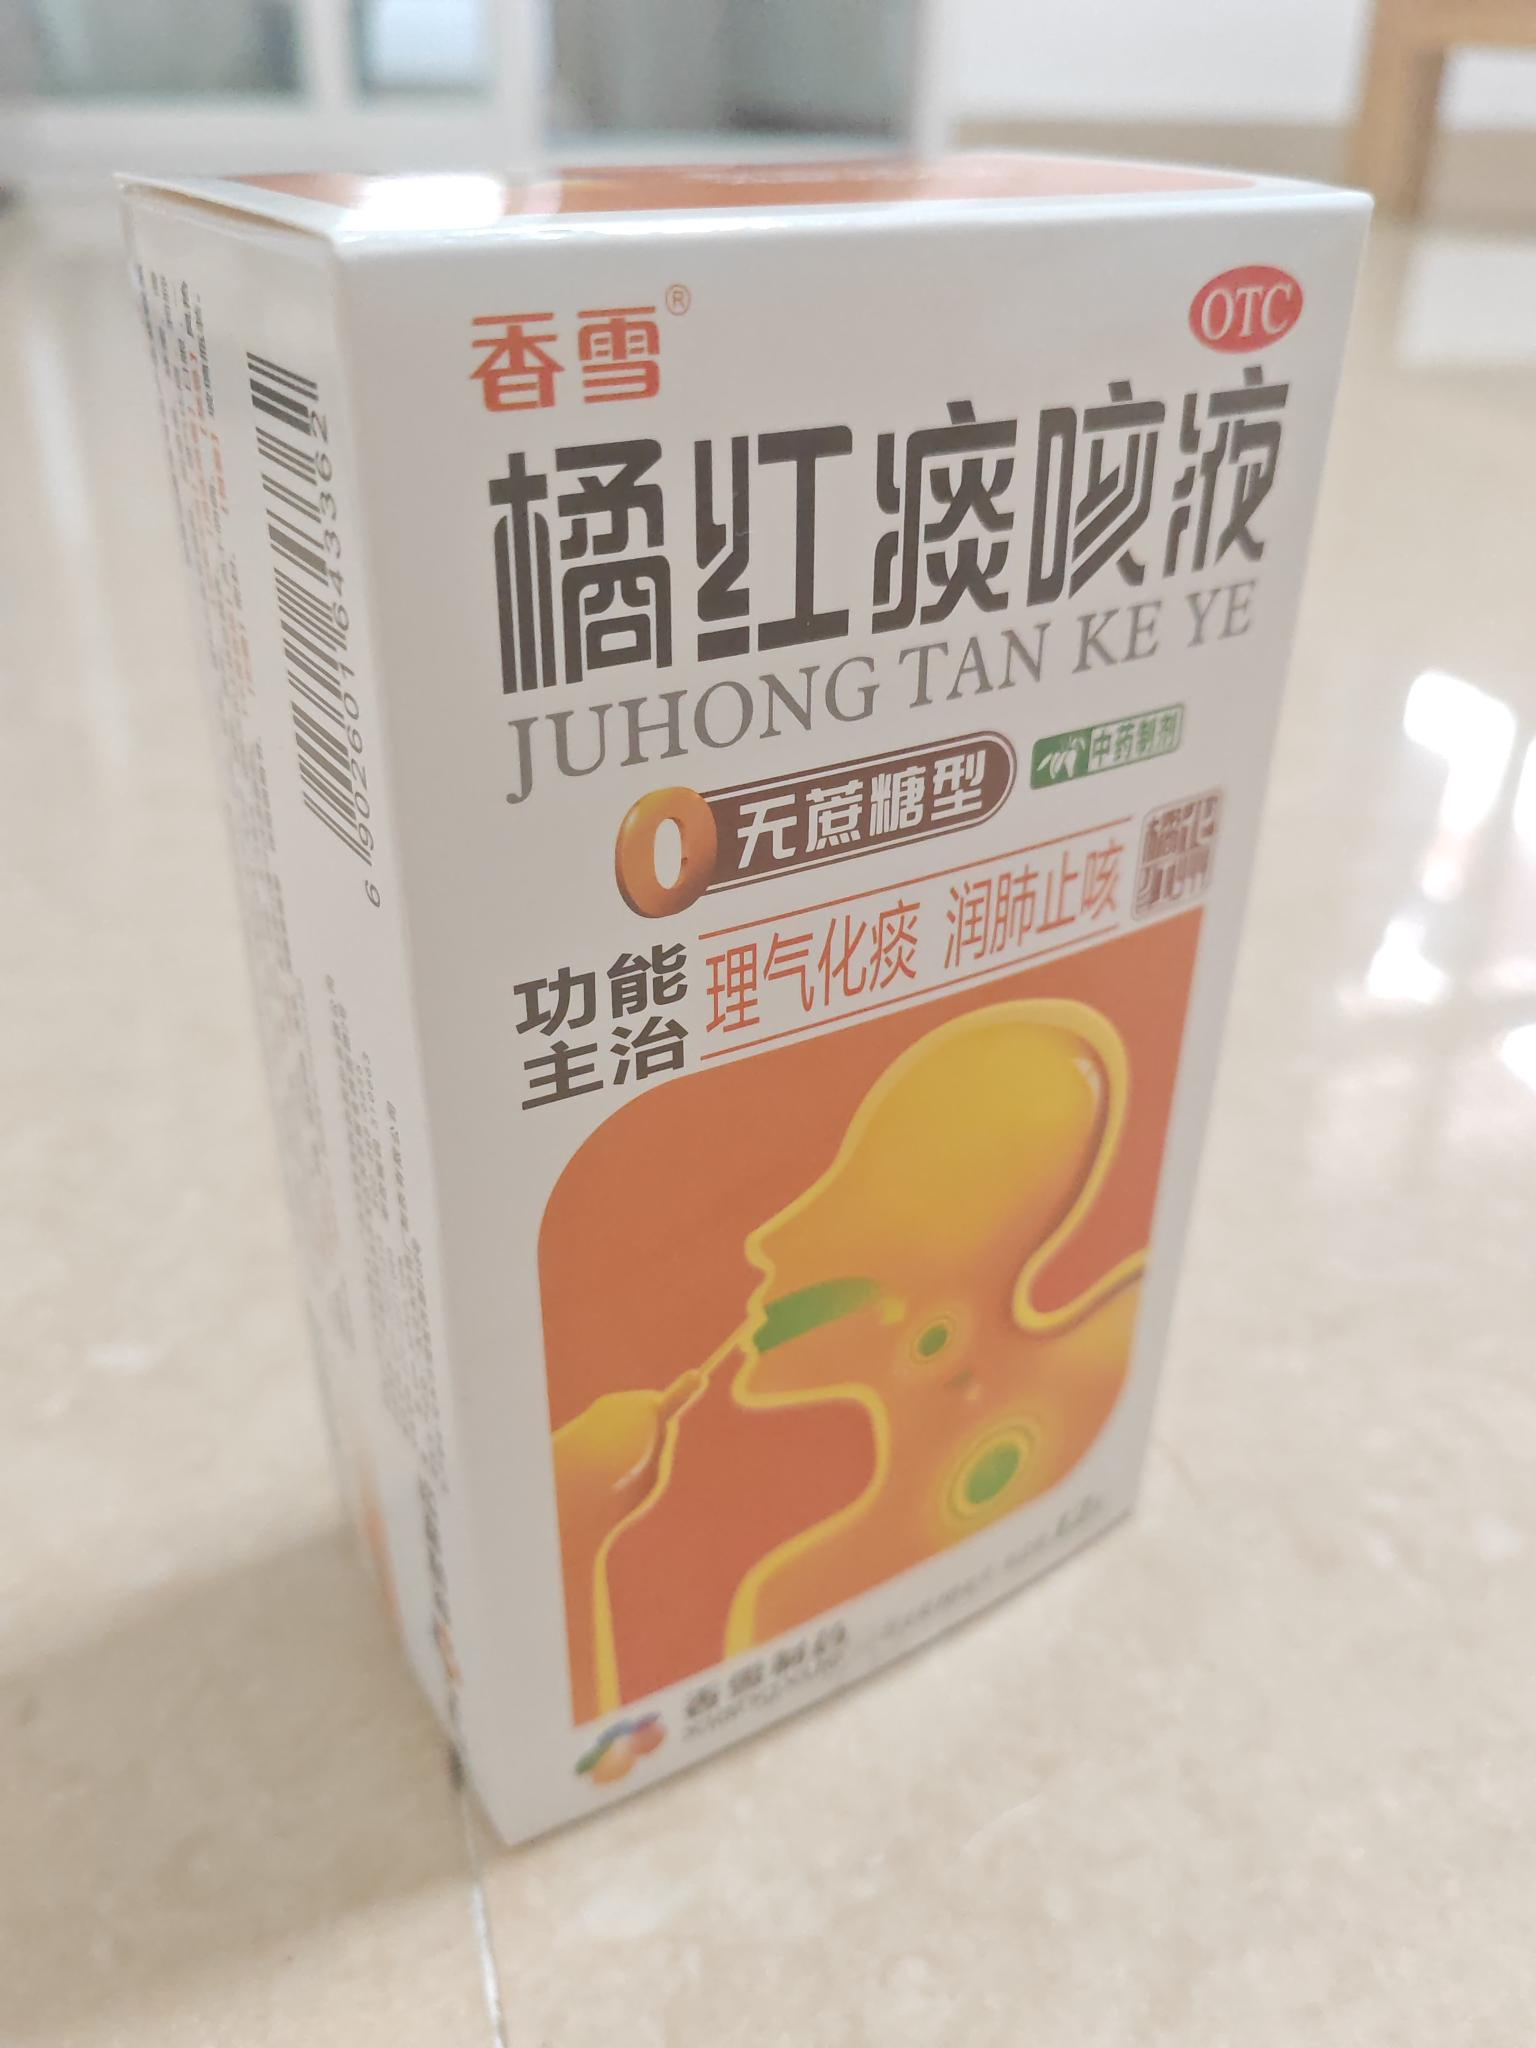Medicine1: (89, 132, 1388, 1859)
